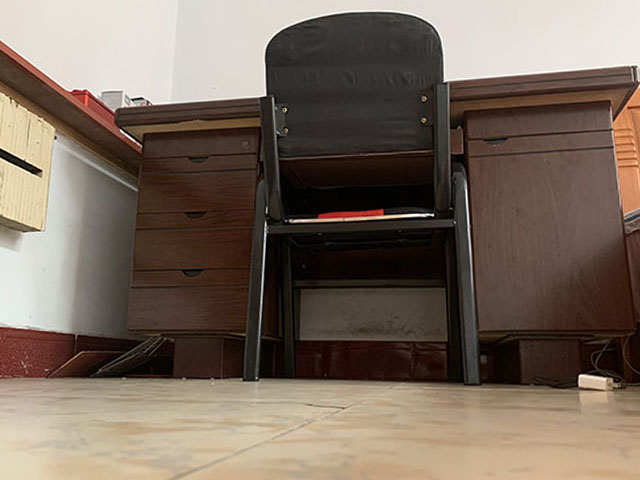cabinet: (108, 62, 640, 386)
stool: (245, 7, 481, 384)
wire: (529, 337, 640, 391)
